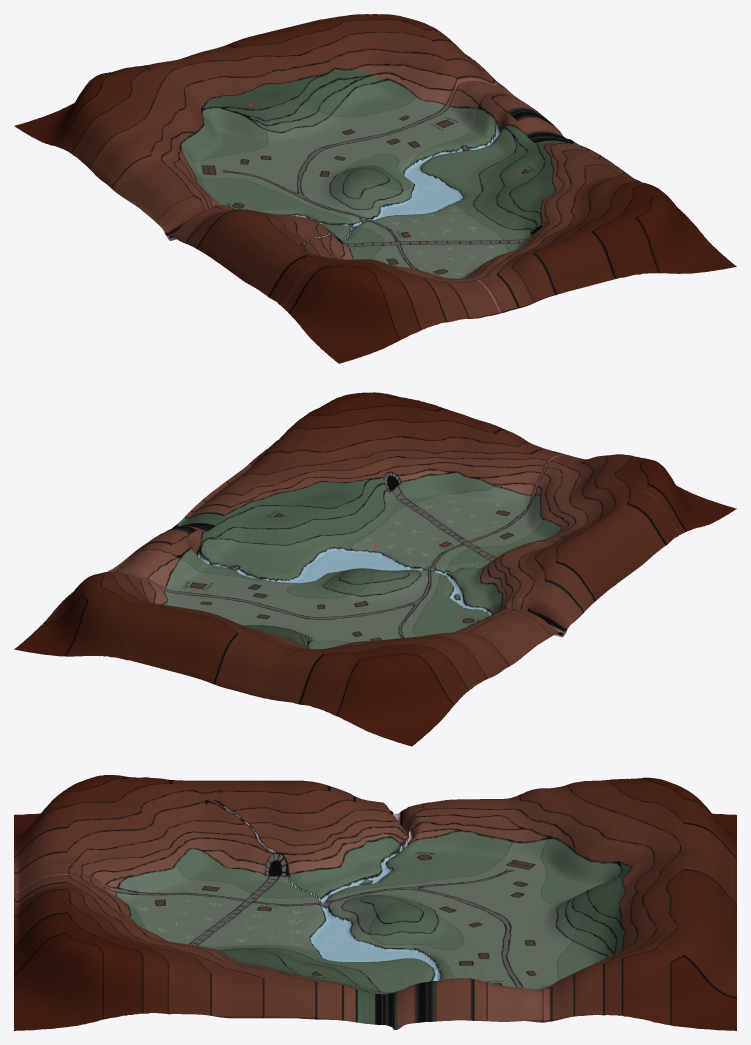
File: Kuvapeli_kartta2.fbx
3 views of the same model, one above another, from view 1: azimuth 30°, elevation 25°; view 2: azimuth 150°, elevation 25°; view 3: azimuth 270°, elevation 25° (orthographic). The views are drawn at different scales.
Parts seen in each view (by area): view 1: kartta2.height; view 2: kartta2.height; view 3: kartta2.height.
Boxes of the visible parts, x1,y1,x2,y2 form: kartta2.height: (14,14,736,363); kartta2.height: (14,392,736,746); kartta2.height: (14,775,736,1030).
Bounding box in the file's own units: 42320 × 5979 × 59846.
